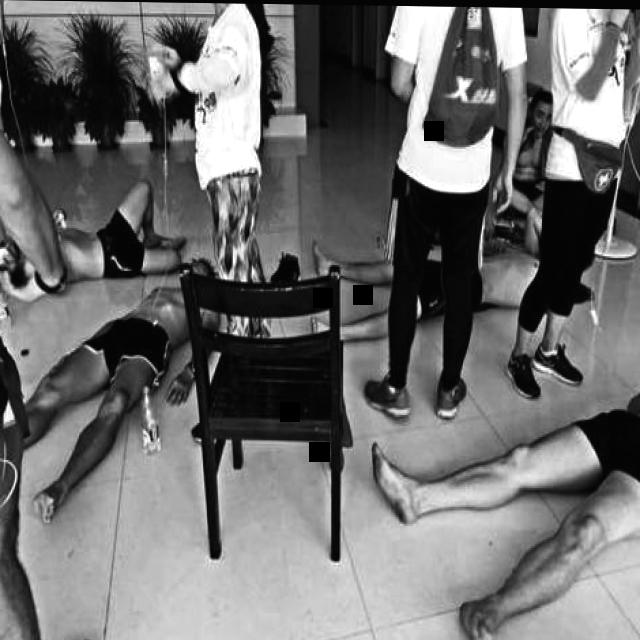Fall-Detected: (291, 194, 527, 363)
